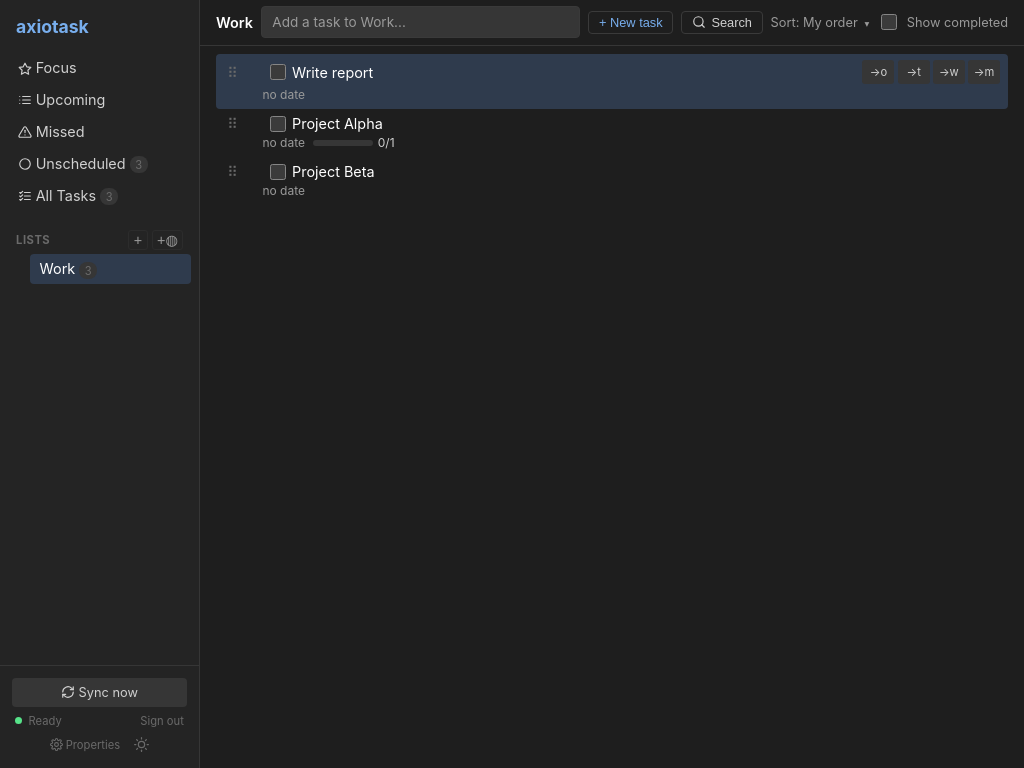
Test: #88 demote a top-level task into a subtask via a parent picker › offers 'Make subtask of…' on a childless top-level task and demotes it via the searchable picker
This screenshot has width=1024, height=768.
expect the text "Write report" is shown: met, box [292,64,373,81]
Right-click the text "Write report" at point(612, 81), box [216,54,1008,109]
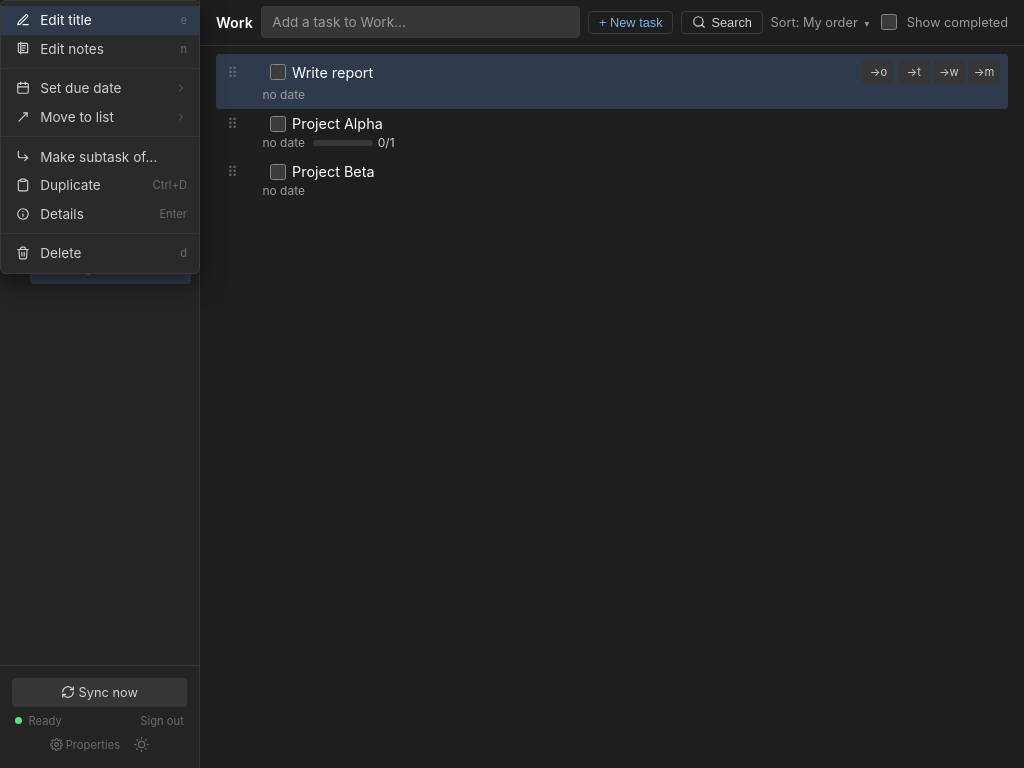
expect the menu with class "context-menu" is shown: met, box [0,0,200,274]
Click the text "Make subtask of…" at point(99, 156), box [40,148,157,164]
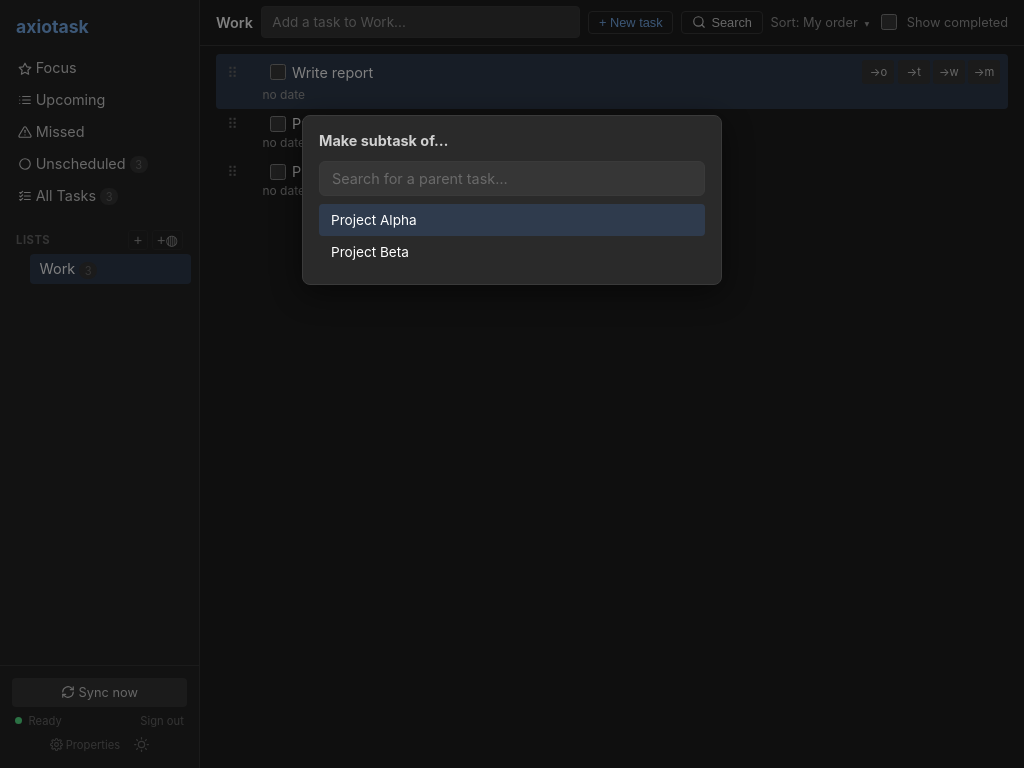
expect the button "Project Alpha" is shown: met, box [319,204,705,236]
expect the button "Project Beta" is shown: met, box [319,236,705,268]
Type "beta" into the field at point(512, 179), box [319,161,705,196]
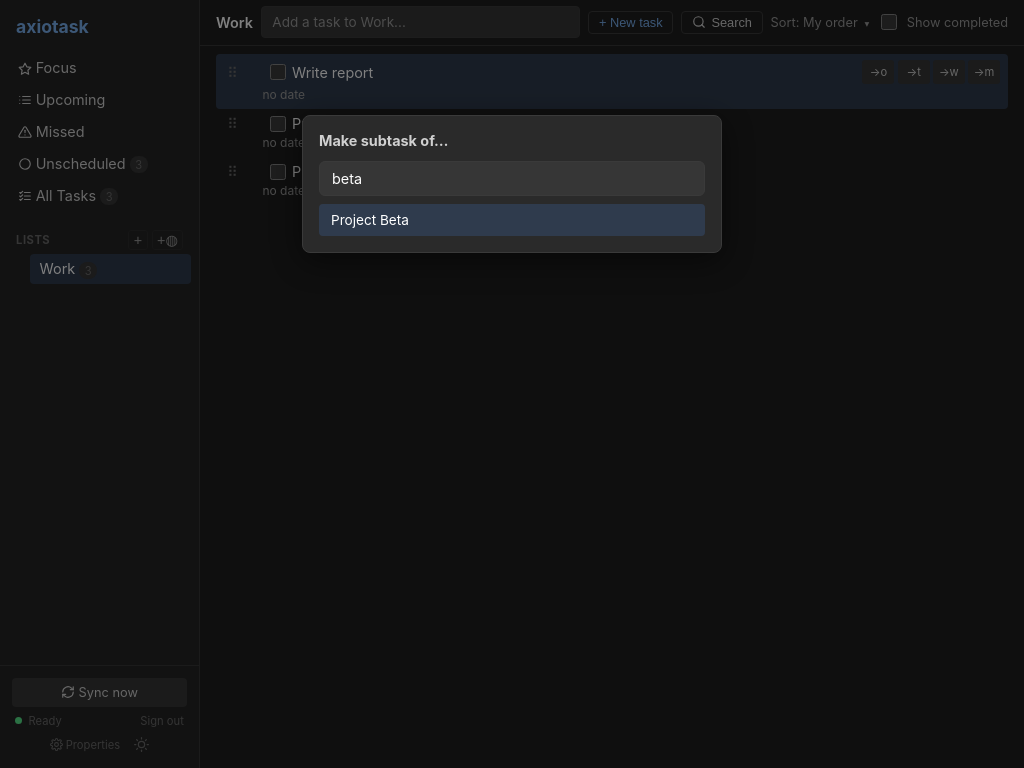
expect the button "Project Beta" is shown: met
Click the button "Project Beta" at point(370, 220), box [319,204,705,236]
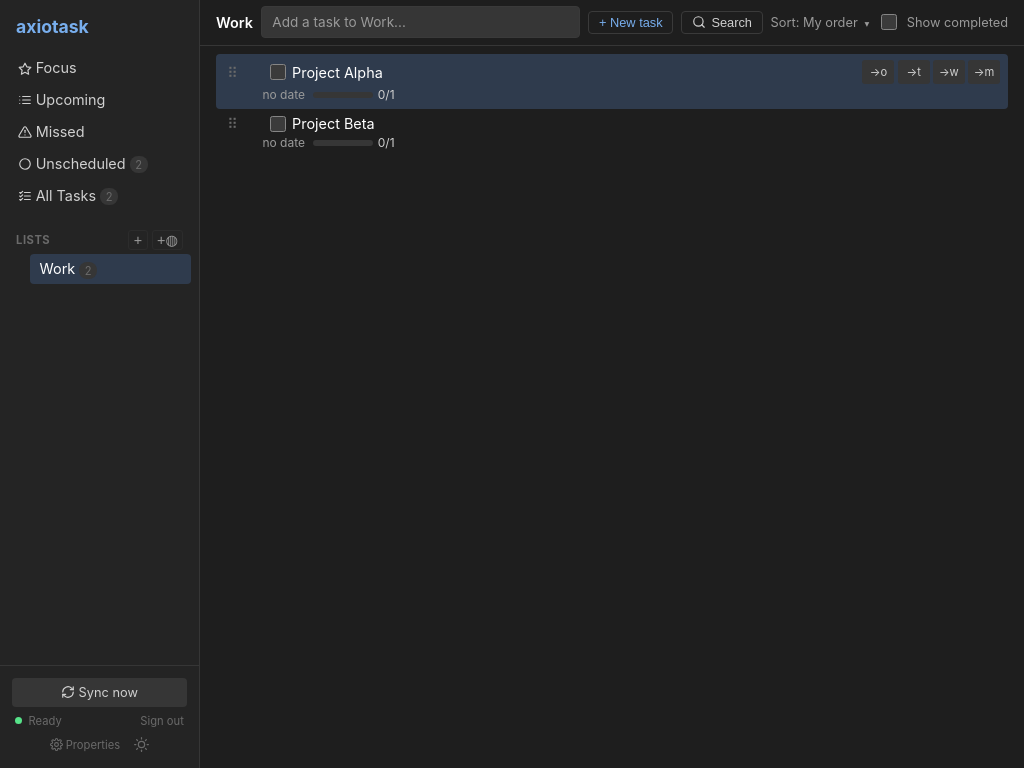
expect the text "Write report" is gone: met
